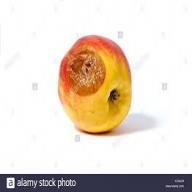apple: (55, 32, 132, 132)
